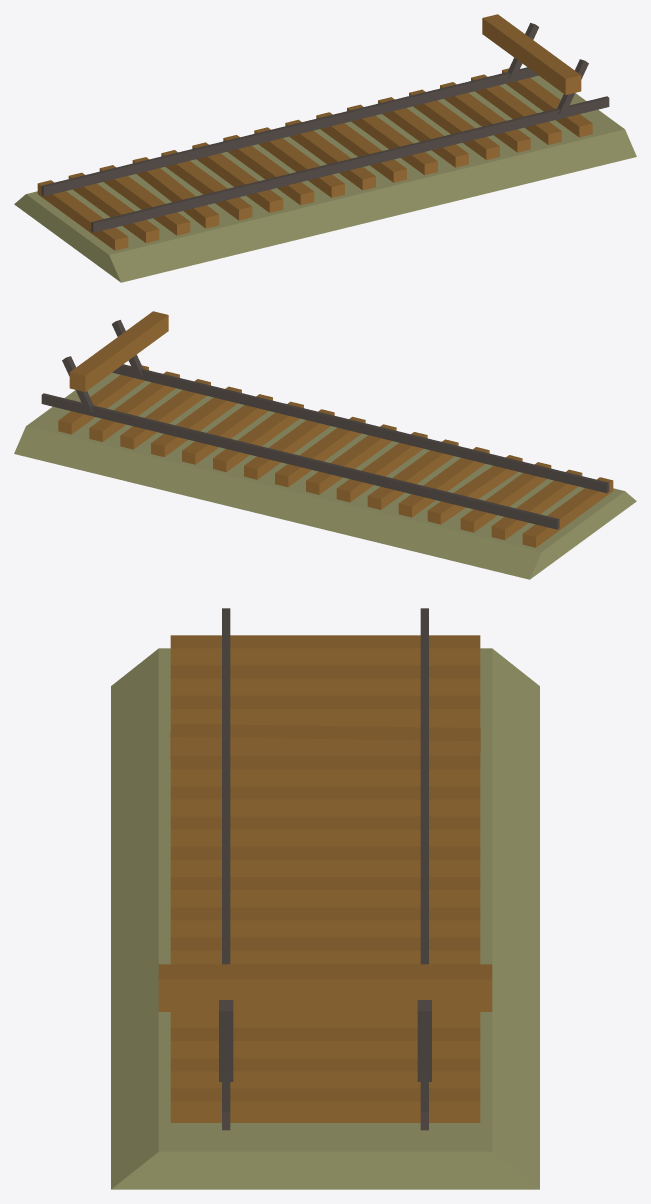
The model's file is SM_Via_Topera_v1_Madera_LOD0.fbx.
3 views of the same model, one above another, from view 1: azimuth 30°, elevation 25°; view 2: azimuth 150°, elevation 25°; view 3: azimuth 270°, elevation 25° (orthographic). The views are drawn at different scales.
Parts seen in each view (by area): view 1: SM_via_trazado_v36_LOD0; view 2: SM_via_trazado_v36_LOD0; view 3: SM_via_trazado_v36_LOD0.
Part boxes in pixels (left/top/right/bottom): SM_via_trazado_v36_LOD0: left=14, top=14, right=636, bottom=282; SM_via_trazado_v36_LOD0: left=14, top=311, right=636, bottom=579; SM_via_trazado_v36_LOD0: left=111, top=608, right=539, bottom=1189.
Size of the model in its own units: 10 by 1.55 by 3.6.
